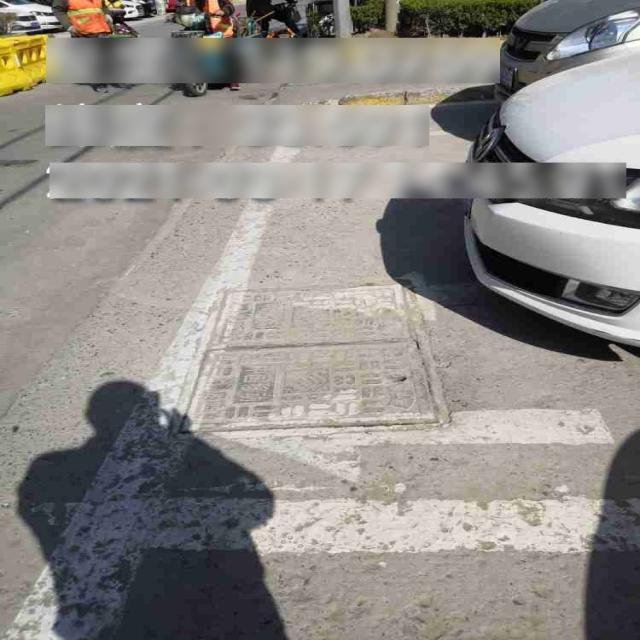Good: (165, 276, 463, 437)
